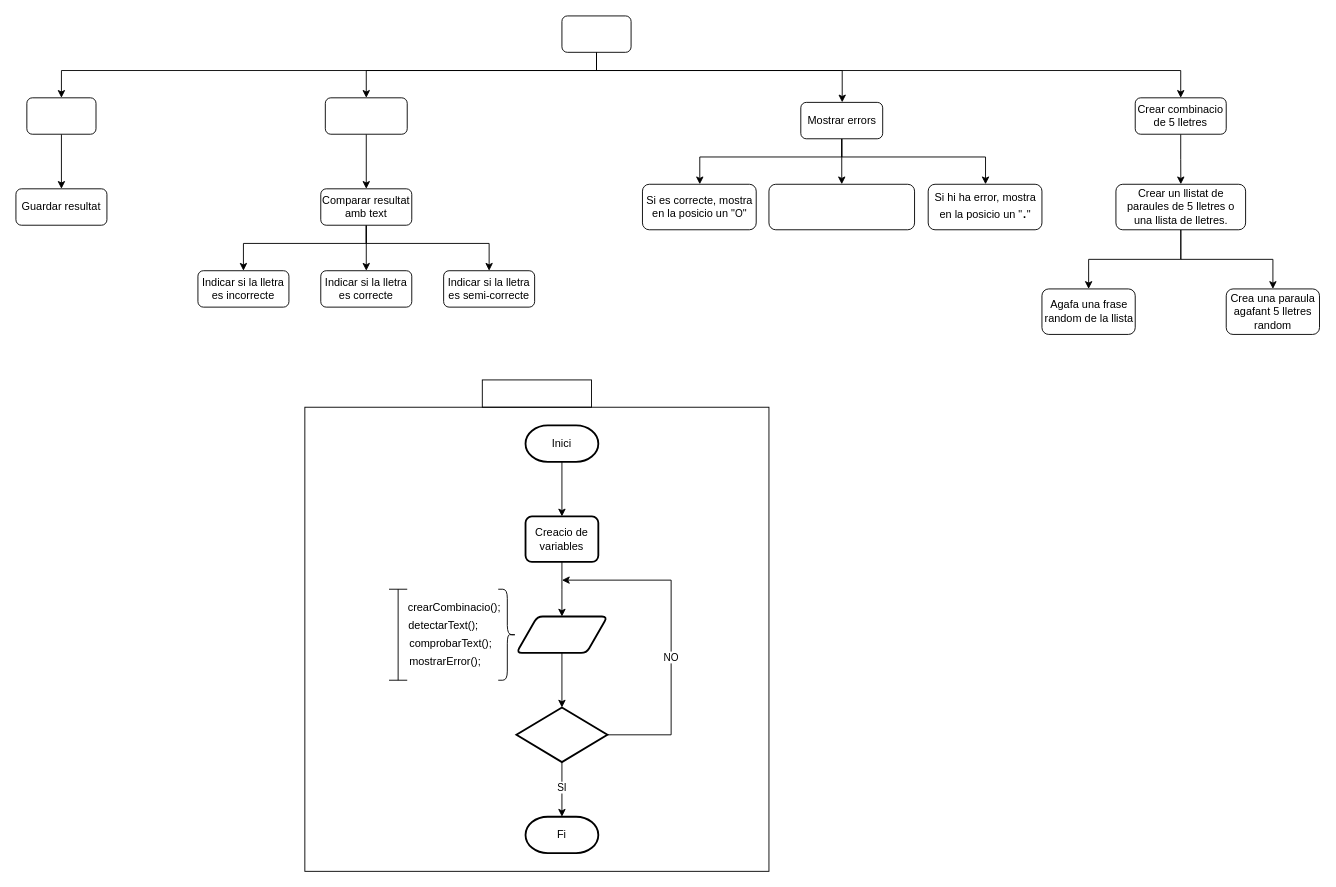
Image size: 1336x887. Some labels were removed from this diagram. Each missing label, with the centre of its shape:
Comprobar text: the point at 365,115
Detectar text: the point at 61,115
Diagrama de flux: the point at 536,393
L'ha encertat?: the point at 561,734
MAIN: the point at 596,33
Mostrar per pantalla: the point at 561,634
Si esta mal posicionat, mostra en la posicio una " X ": the point at 841,206
